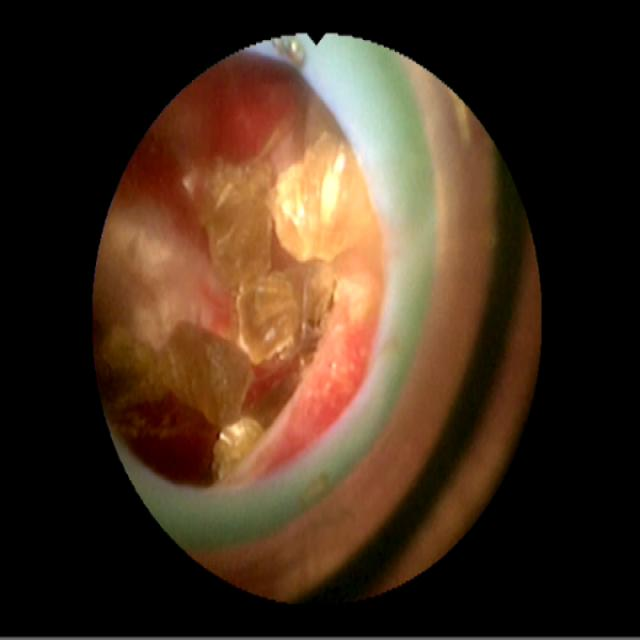stone: (101, 138, 363, 472), (97, 213, 214, 334)
